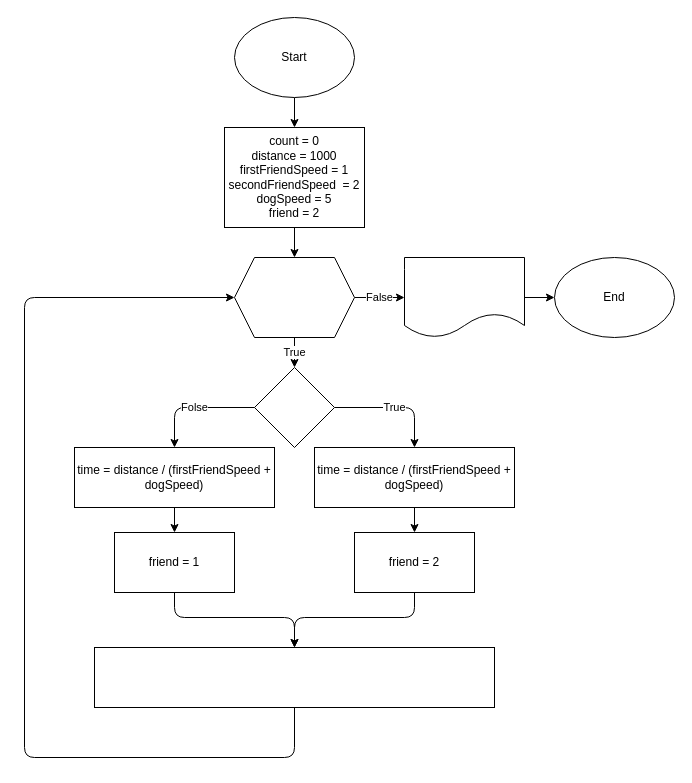
Some shapes in this 692 by 783 pixel diagram are drawn without their labels. The shapes that lost their labels are listed below. From the top down, each one's box as (x1, y1, x2, y2) in pixels, then its label:
(234, 256, 354, 338): distance > 10 count ++
(404, 256, 524, 338): Rrint(count)
(254, 366, 334, 448): friend == 1
(94, 646, 494, 708): distance = distance - (firstFriendSpeed + secondFriend Speed) * time
